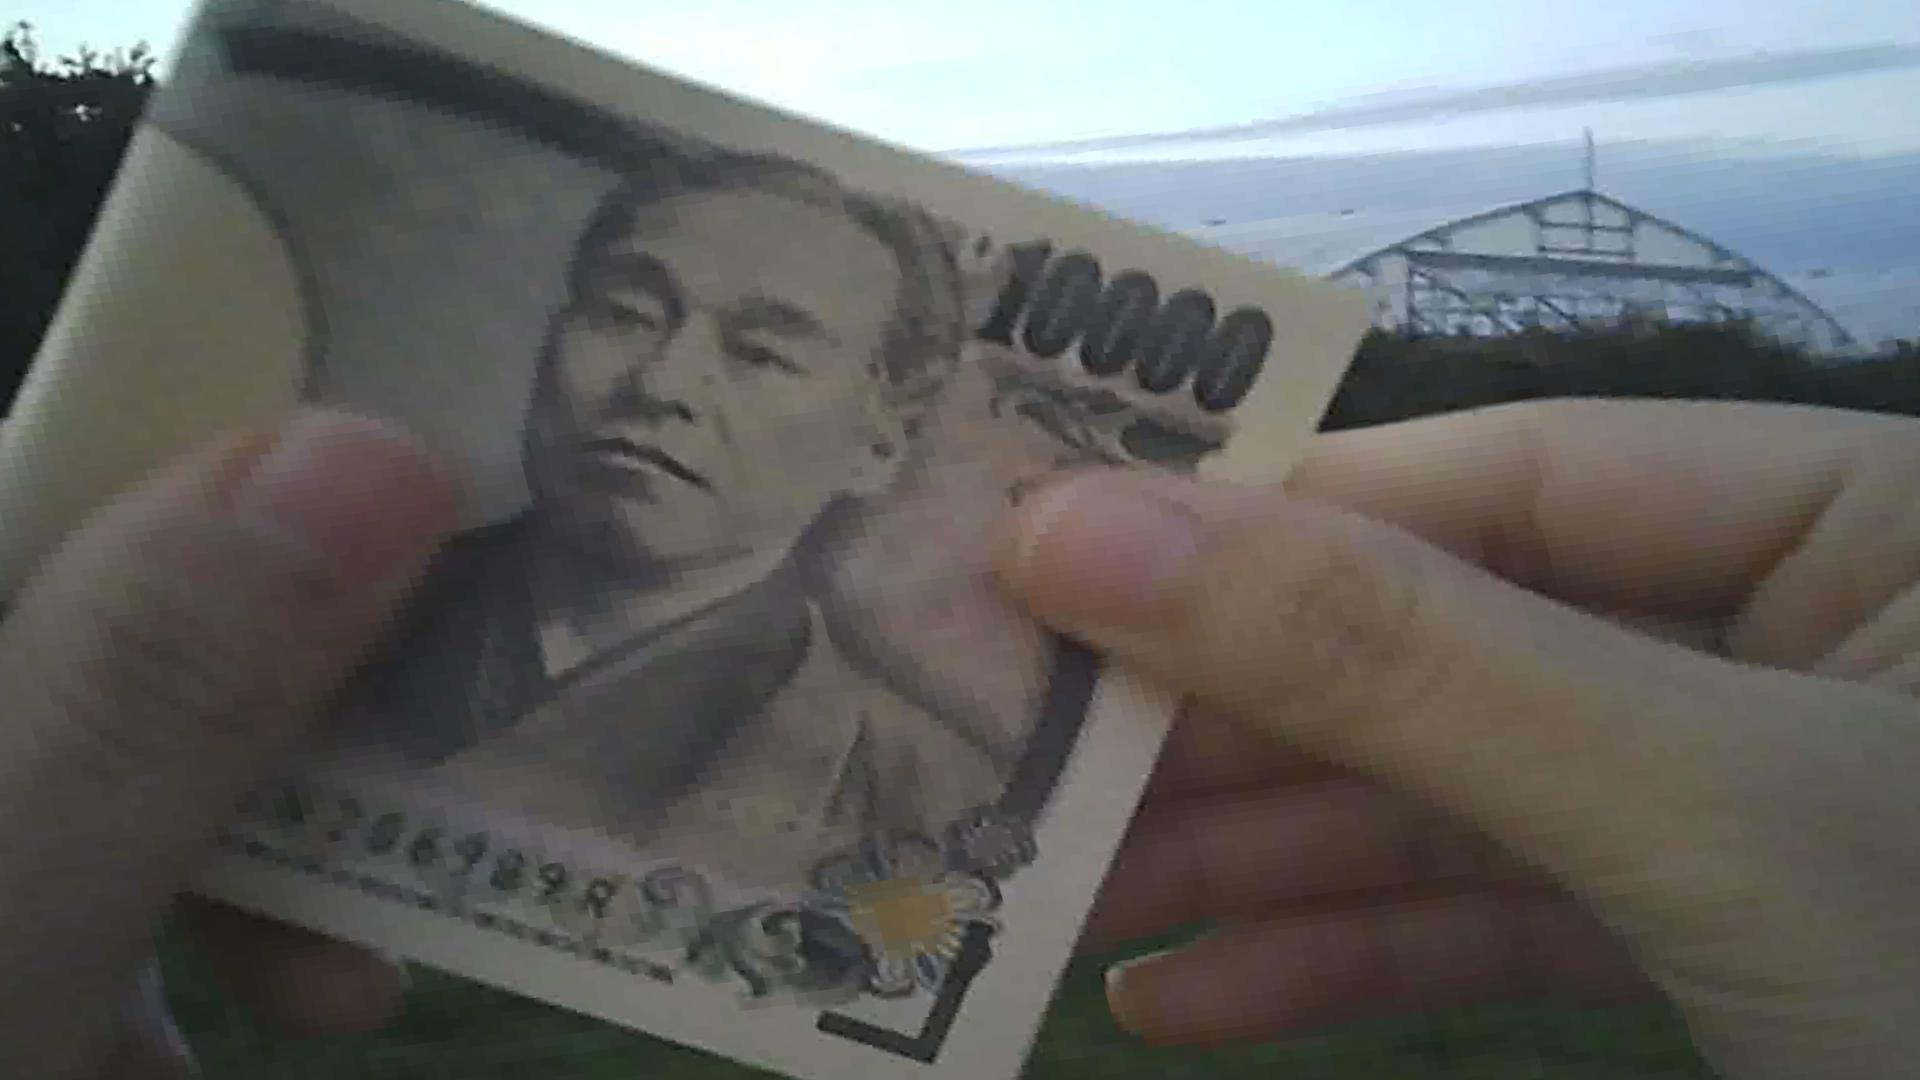10,000 Yen: (30, 11, 1346, 1054)
